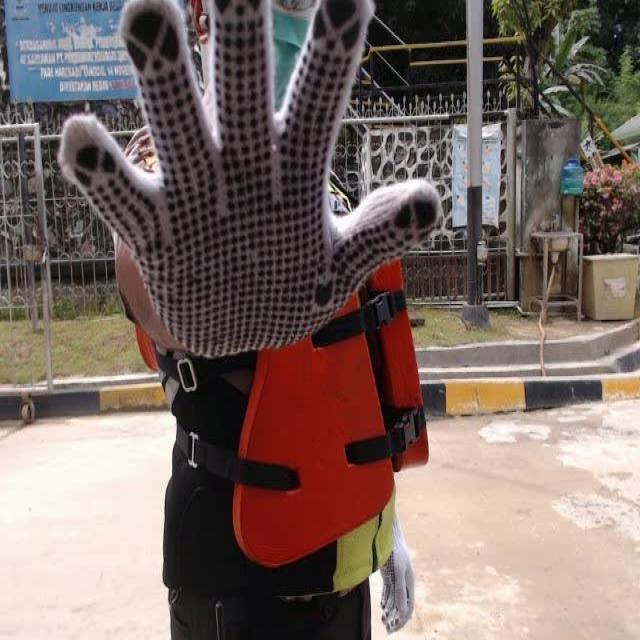Vest: (230, 248, 447, 565)
